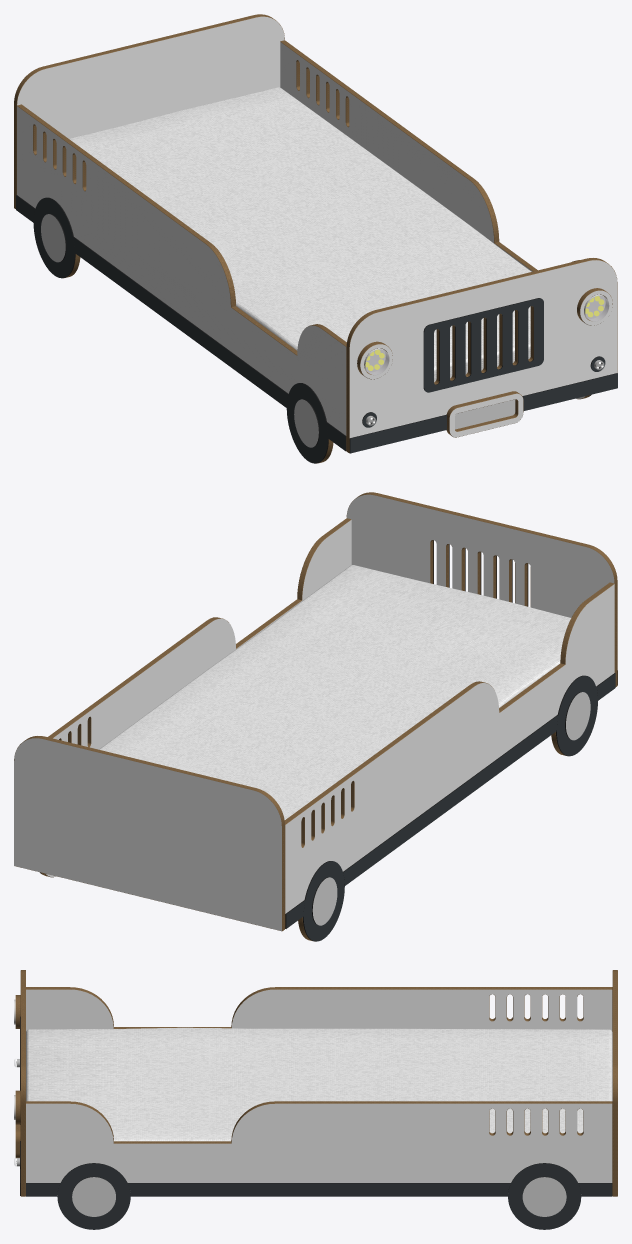
Rendered from Bed200x90.glb.
The picture shows the model from 3 angles, top to bottom: view 1: azimuth 30°, elevation 25°; view 2: azimuth 150°, elevation 25°; view 3: azimuth 270°, elevation 25°; orthographic projection. The views are drawn at different scales.
Visible parts, largest first — view 1: Bed200x90; view 2: Bed200x90; view 3: Bed200x90.
Part boxes in pixels (bbox=[...]): Bed200x90: bbox=[14, 14, 617, 463]; Bed200x90: bbox=[14, 492, 617, 941]; Bed200x90: bbox=[14, 970, 617, 1229].
Size of the model in its own units: 0.952 by 0.575 by 2.06.
Materials: 17 (4 with a texture image).
